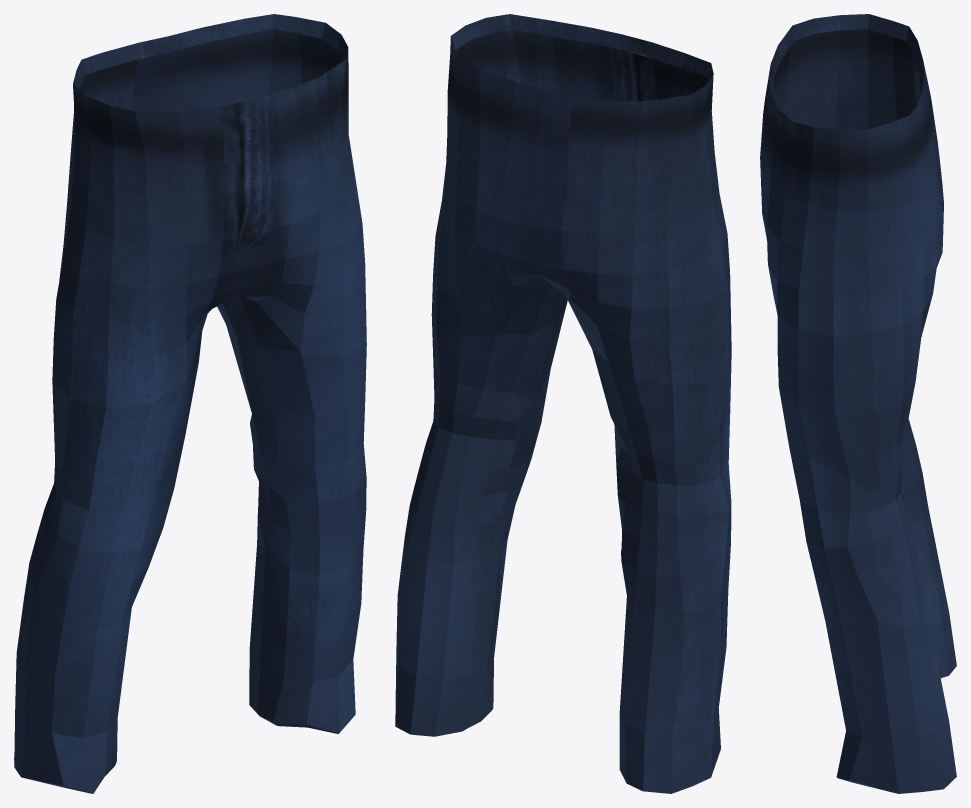
The model's file is kuzi.fbx.
The picture shows the model from 3 angles, left to right: view 1: azimuth 30°, elevation 25°; view 2: azimuth 150°, elevation 25°; view 3: azimuth 270°, elevation 25°; orthographic projection. The views are drawn at different scales.
Parts seen in each view (by area): view 1: polySurface5; view 2: polySurface5; view 3: polySurface5.
Boxes of the visible parts, box(x1,y1,x2,y2) form: polySurface5: box(14, 14, 366, 793); polySurface5: box(395, 14, 731, 793); polySurface5: box(760, 14, 956, 793).
Size of the model in its own units: 7.16 by 14.59 by 3.98.
